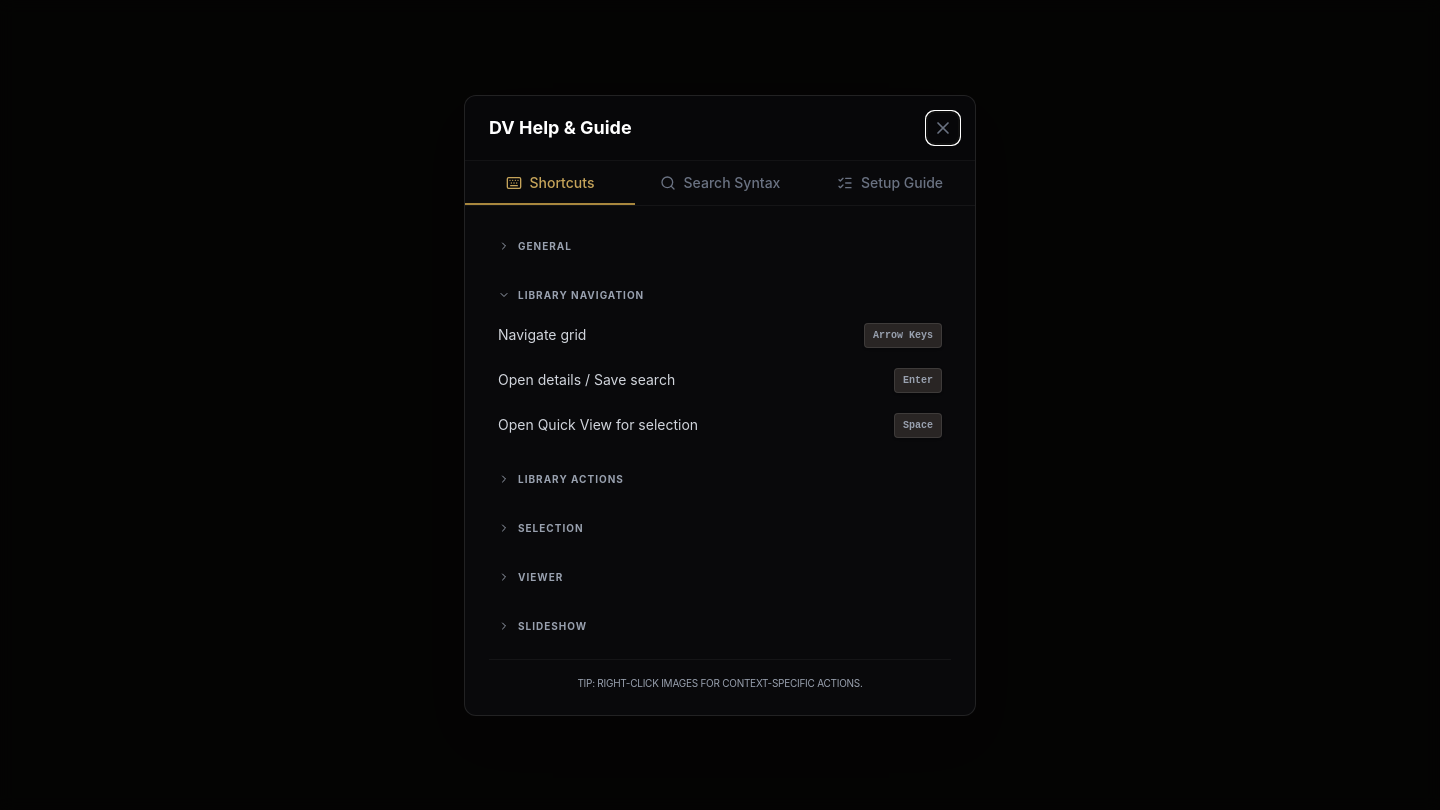
Test: ShortcutsModal › loads saved categories, toggles and persists them
Check: the text "Navigate grid" is shown, box [498,325,586,345]
Click the button "Library Actions".
click(571, 478)  # box [490,464,950,494]
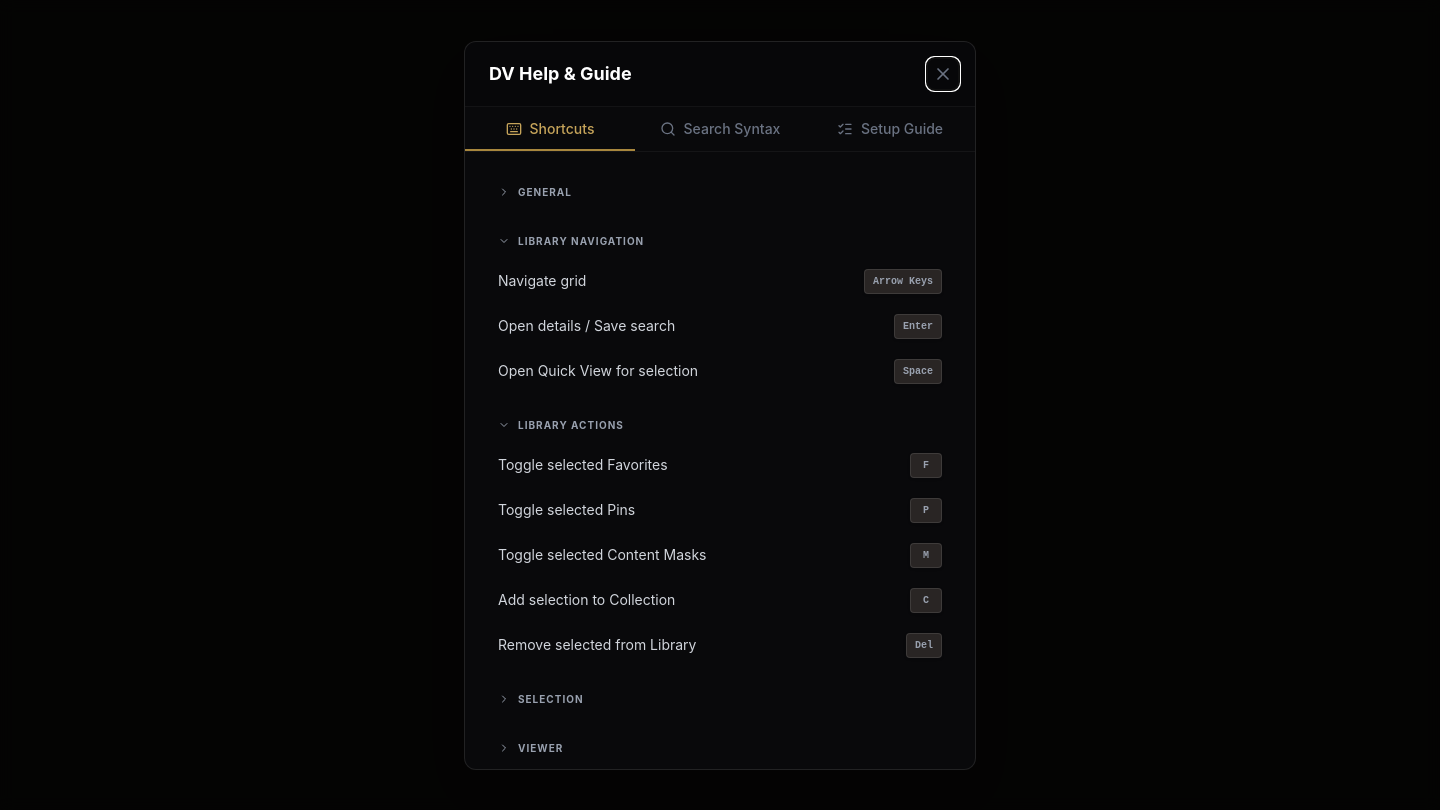
Check: the text "Toggle selected Favorites" is shown, box [498,455,668,475]
Click the button "Library Navigation".
click(581, 240)  # box [490,226,950,256]
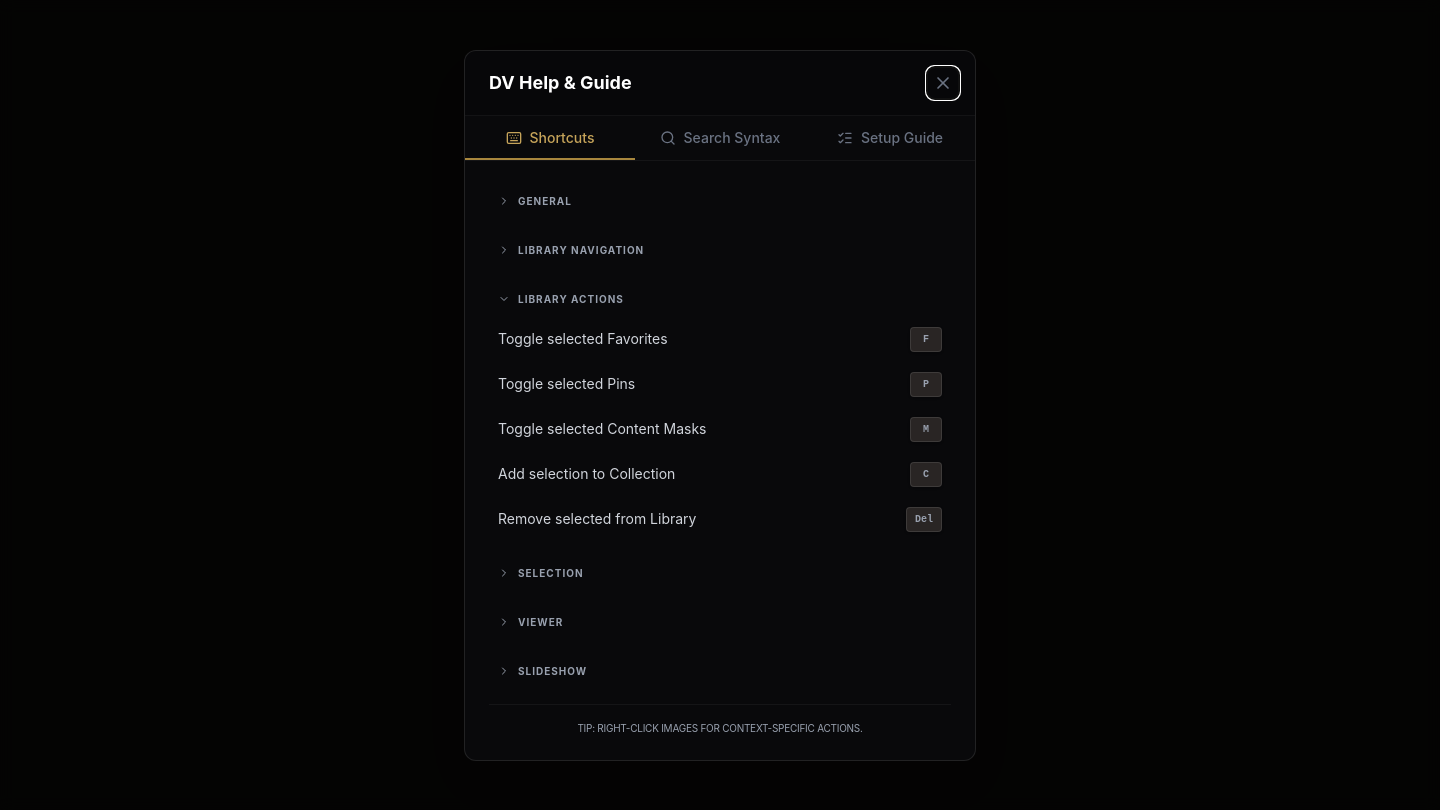
Check: the text "Navigate grid" is gone
